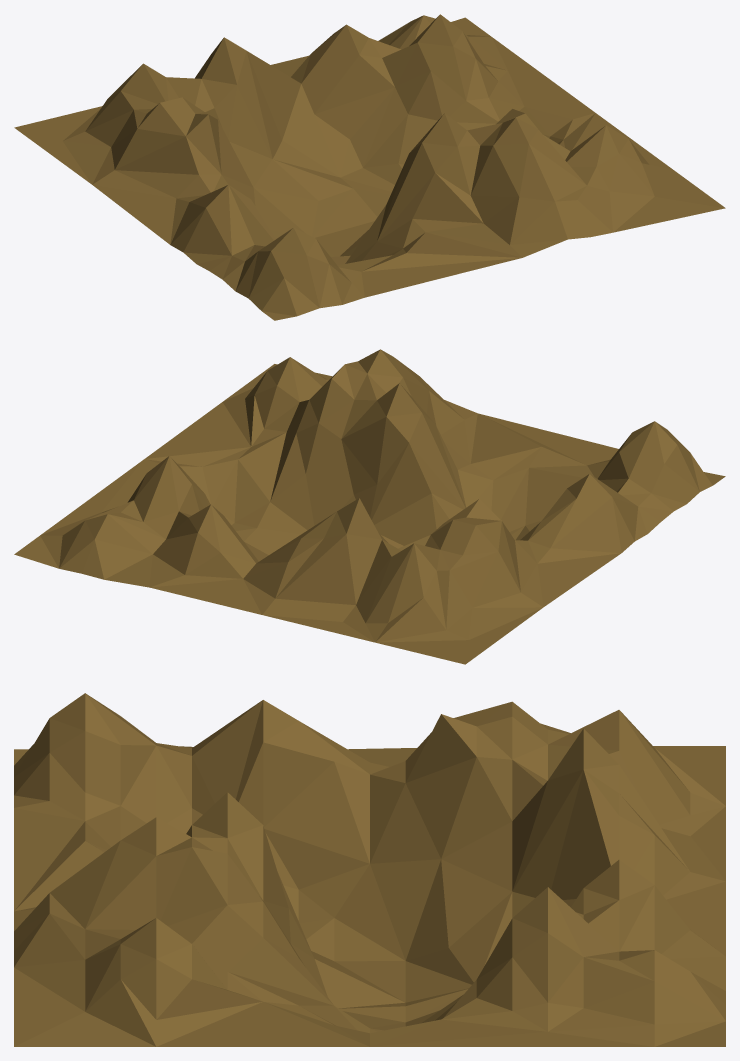
File: reeftype1.fbx
The picture shows the model from 3 angles, top to bottom: view 1: azimuth 30°, elevation 25°; view 2: azimuth 150°, elevation 25°; view 3: azimuth 270°, elevation 25°; orthographic projection. The views are drawn at different scales.
Visible parts, largest first — view 1: reef; view 2: reef; view 3: reef.
Boxes of the visible parts, bbox=[...] form: reef: bbox=[14, 14, 725, 320]; reef: bbox=[14, 349, 725, 664]; reef: bbox=[14, 693, 725, 1046].
Bounding box in the file's own units: 11.33 × 3.85 × 11.33.
